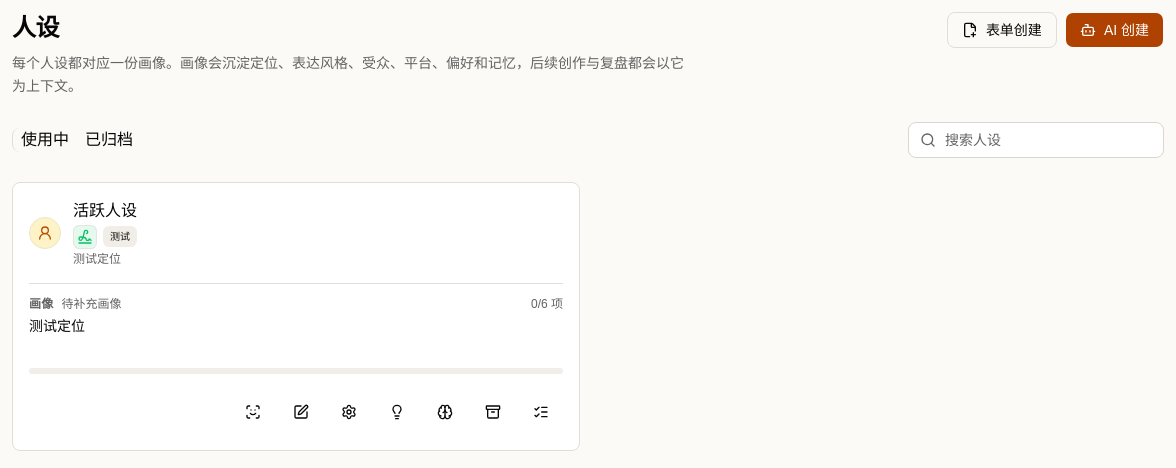
Scenario: ProjectsPage › defaults to active personas and switches to archived personas
The image size is (1176, 468).
expect the text "活跃人设" is shown: met, box [73,198,137,222]
expect the text "已归档人设" is not shown: met
Click the button "已归档" at [109, 140], box [77,128,141,152]
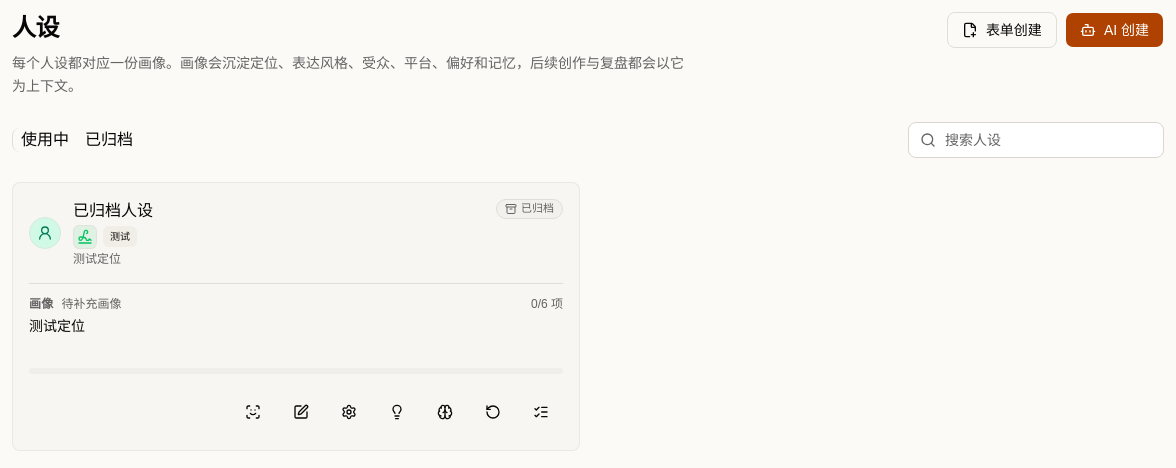
expect the text "已归档人设" is shown: met, box [73,198,153,222]
expect the text "活跃人设" is gone: met
